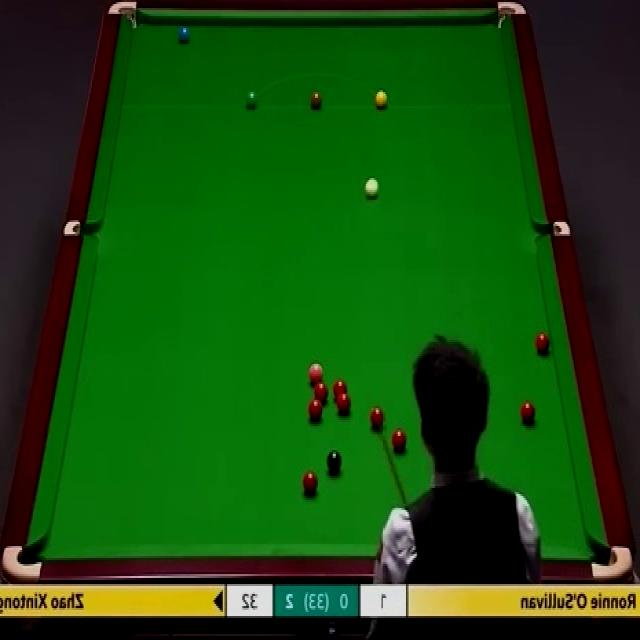black-ball: (326, 450, 341, 478)
blue-ball: (179, 24, 191, 44)
brown-ball: (309, 90, 322, 110)
green-ball: (245, 90, 259, 111)
pink-ball: (308, 361, 324, 385)
red-ball: (301, 470, 318, 496), (334, 392, 352, 416), (308, 396, 323, 424), (390, 429, 408, 451), (312, 380, 330, 402), (521, 398, 536, 424), (332, 378, 348, 400), (534, 333, 550, 355), (371, 405, 386, 428)
white-ball: (364, 177, 380, 201)
yellow-ball: (374, 89, 389, 110)
